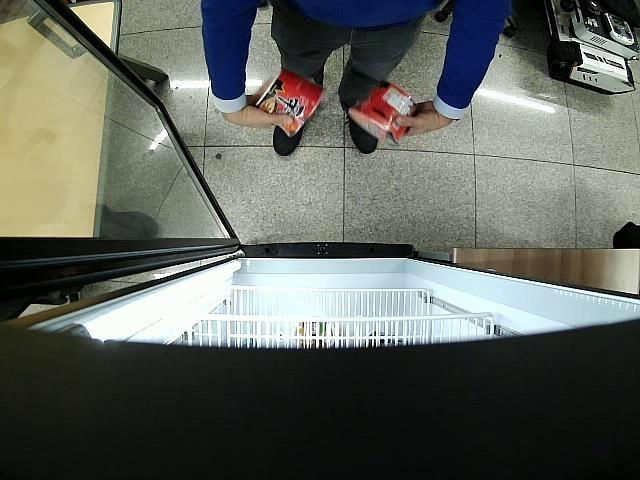01_ShinRamen_L: (256, 70, 326, 138), (348, 80, 418, 144)
